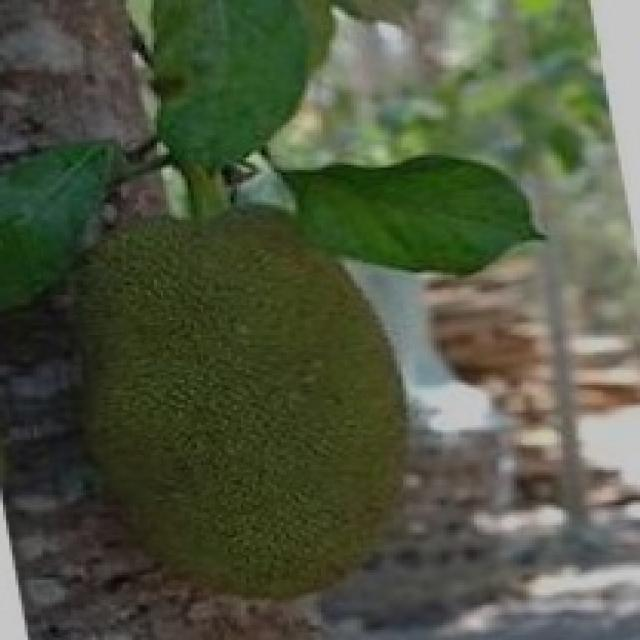Fruit: (25, 185, 446, 633)
